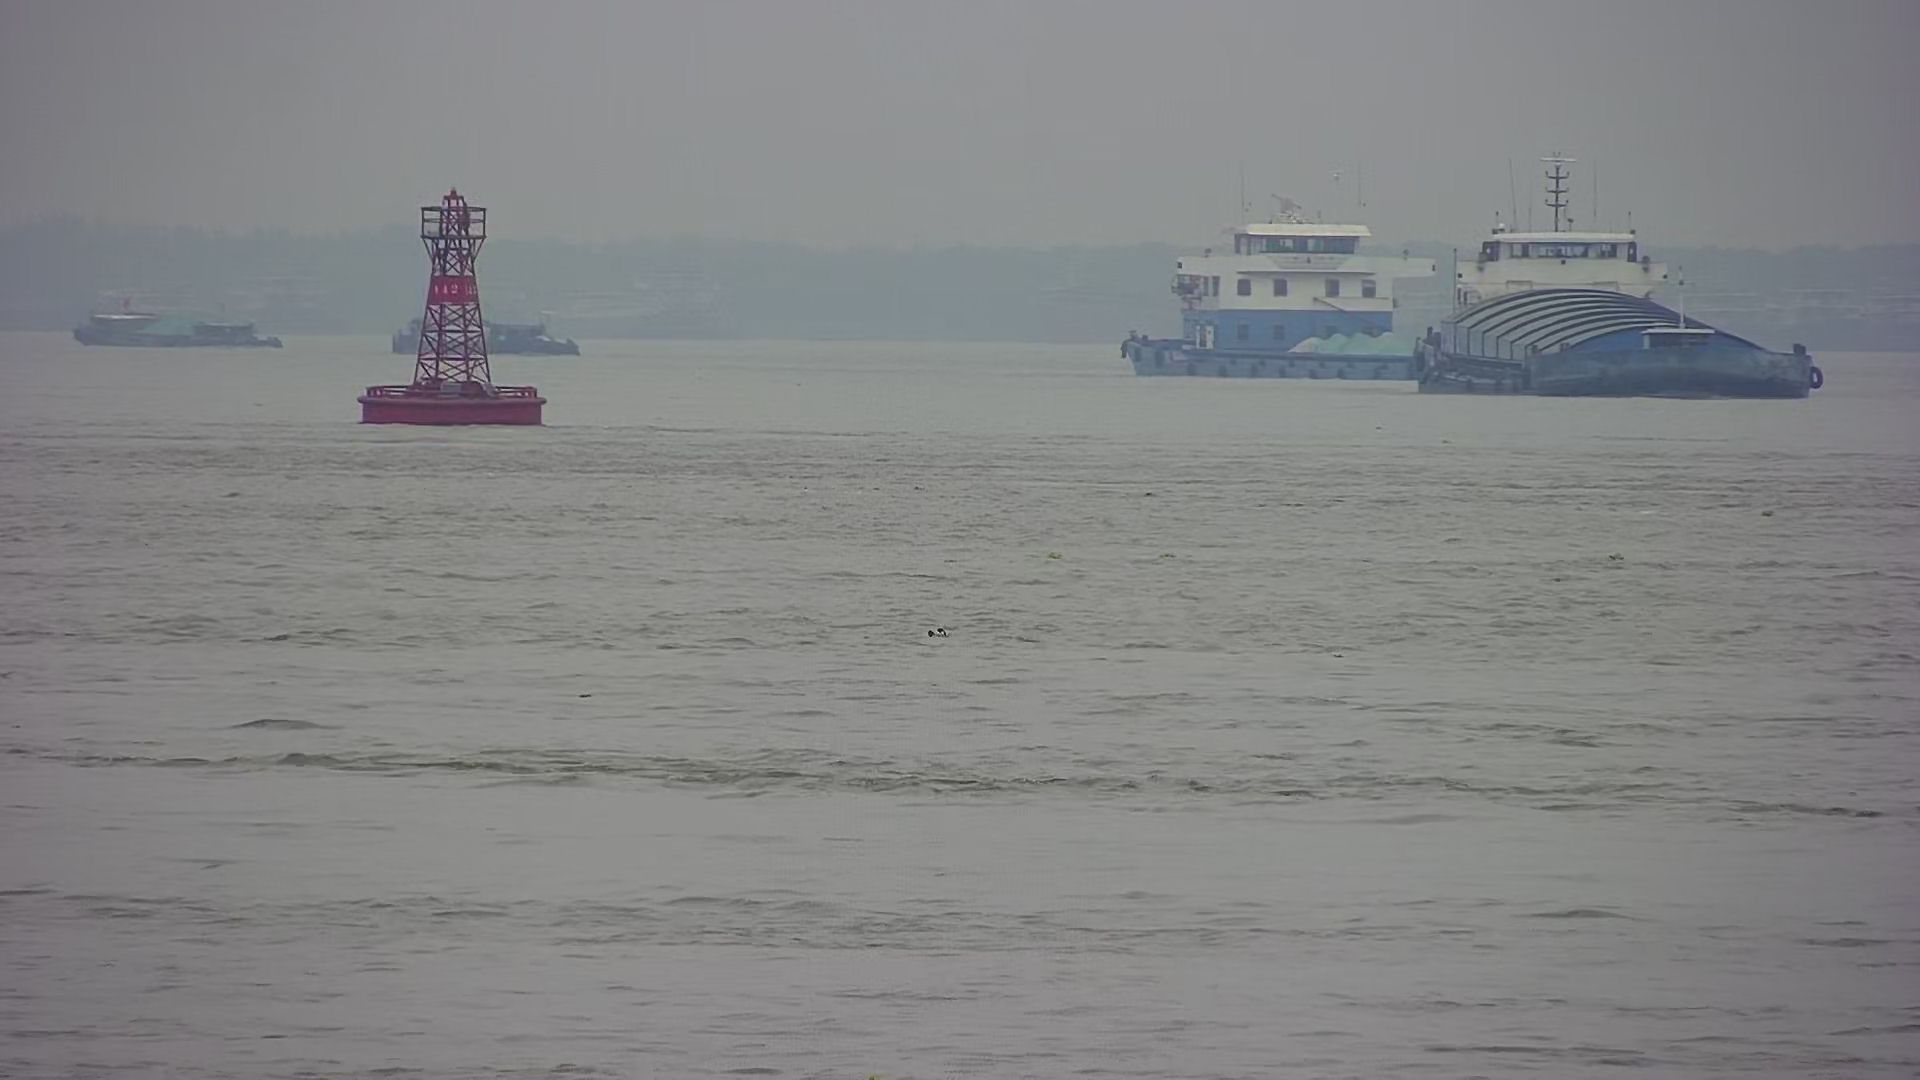platform: (349, 185, 553, 430)
ship: (1418, 160, 1832, 398), (1117, 208, 1415, 375), (71, 309, 287, 352)
